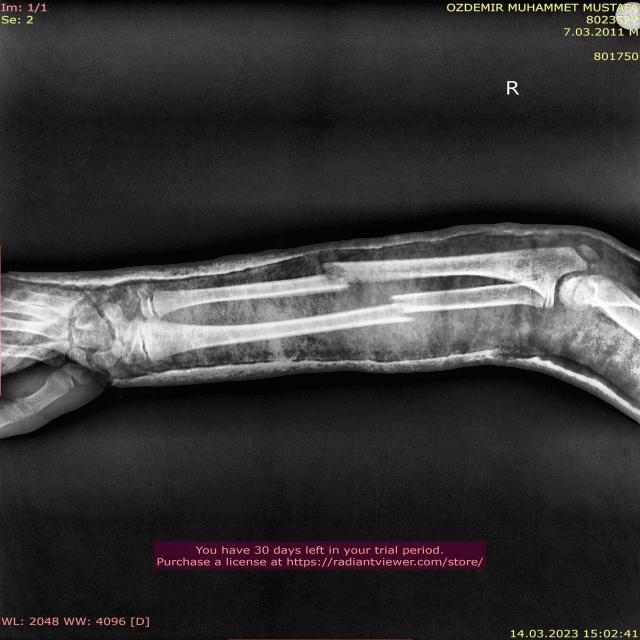Fracture: (310, 261, 354, 292), (378, 293, 420, 325)
